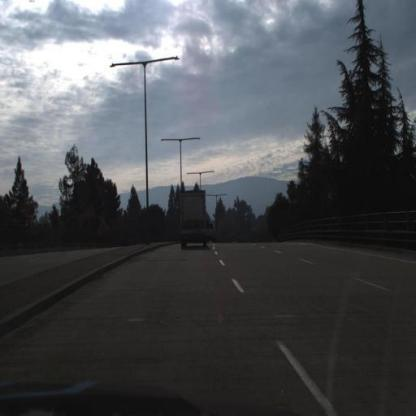car: (207, 222, 219, 243)
truck: (179, 191, 207, 252)
